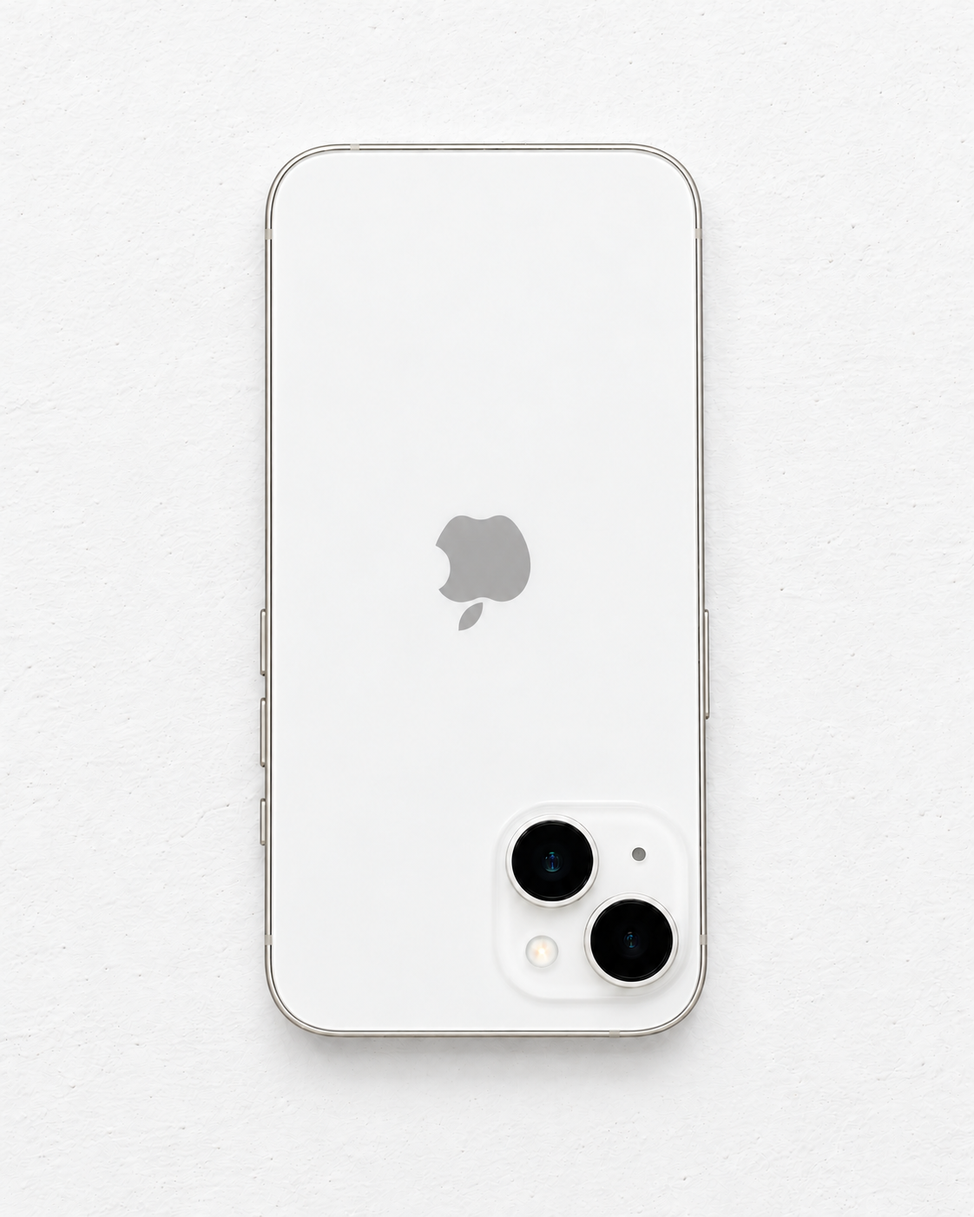iphone_14_white: (191, 108, 797, 1087), (494, 814, 705, 1021)
